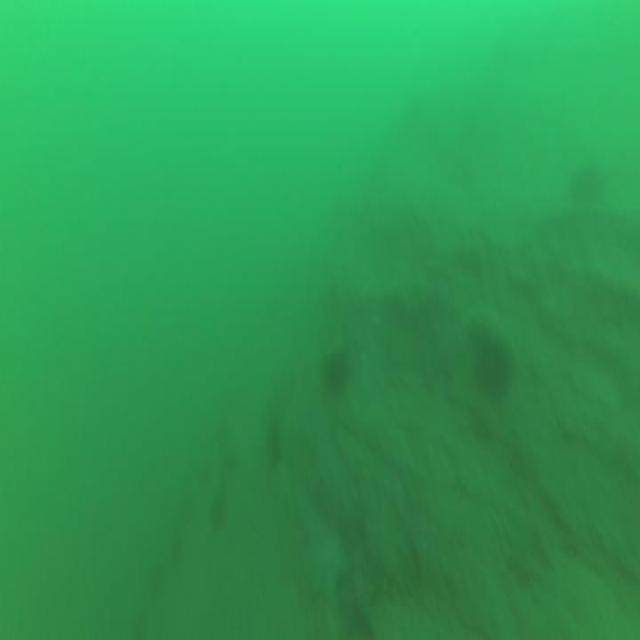echinus: (468, 322, 516, 408), (317, 343, 352, 404)
